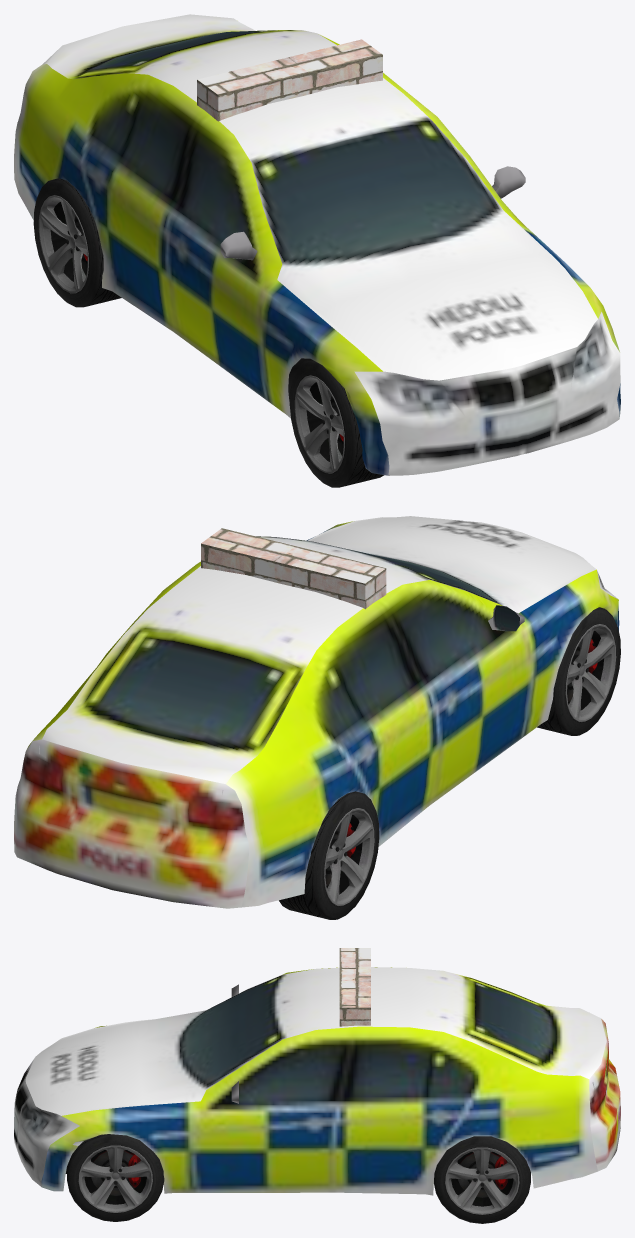
The model's file is police-battenburg-bmw.glb.
The picture shows the model from 3 angles, top to bottom: view 1: azimuth 30°, elevation 25°; view 2: azimuth 150°, elevation 25°; view 3: azimuth 270°, elevation 25°; orthographic projection. The views are drawn at different scales.
Parts seen in each view (by area): view 1: Body_4, Pneu_FR_1, Pneu_RR_3, Gyrophare_D, Gyrophare_G, Body_8; view 2: Body_4, Pneu_RR_3, Pneu_FR_1, Gyrophare_D, Gyrophare_G, Body_8; view 3: Body_4, Pneu_FL_0, Pneu_RL_2, Gyrophare_G, Gyrophare_D.
Boxes of the visible parts, left/top/right/bottom form: Body_4: left=14, top=14, right=620, bottom=475; Pneu_FR_1: left=289, top=359, right=383, bottom=487; Pneu_RR_3: left=33, top=178, right=121, bottom=307; Gyrophare_D: left=197, top=61, right=291, bottom=110; Gyrophare_G: left=288, top=39, right=382, bottom=88; Body_8: left=197, top=71, right=382, bottom=121; Body_4: left=14, top=516, right=619, bottom=908; Pneu_RR_3: left=279, top=791, right=379, bottom=919; Pneu_FR_1: left=537, top=607, right=620, bottom=735; Gyrophare_D: left=291, top=550, right=386, bottom=599; Gyrophare_G: left=201, top=528, right=295, bottom=577; Body_8: left=201, top=560, right=386, bottom=609; Body_4: left=14, top=967, right=620, bottom=1195; Pneu_FL_0: left=67, top=1134, right=164, bottom=1221; Pneu_RL_2: left=434, top=1136, right=530, bottom=1223; Gyrophare_G: left=339, top=981, right=370, bottom=1019; Gyrophare_D: left=339, top=948, right=370, bottom=974.
Size of the model in its own units: 1.93 by 1.63 by 4.56.
6 materials, 6 textured.
